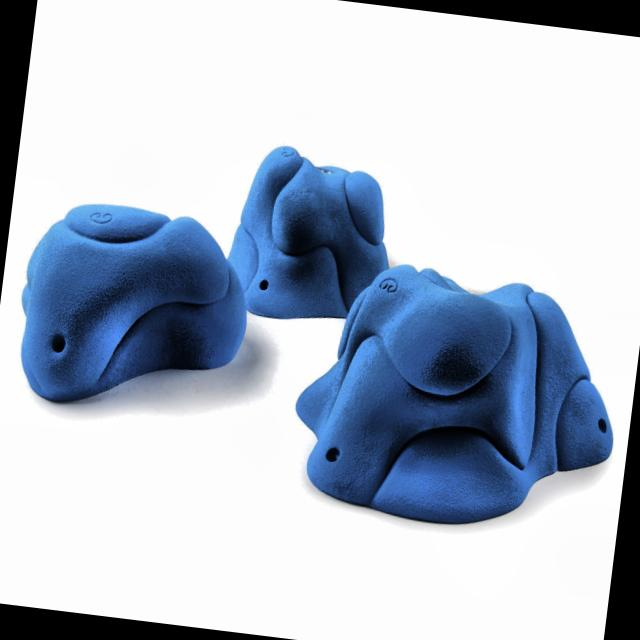Hold: (282, 250, 632, 540), (7, 190, 261, 422), (224, 140, 406, 332)
